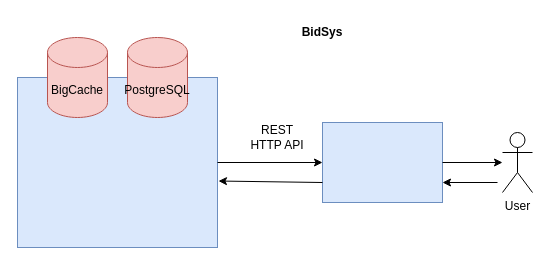
This 550x265 diagram has some shape labels left out. Here are the shapes that lost their labels. From the top down, the box of each, then its label:
(16, 76, 218, 248): Backend (Go)
(322, 122, 442, 202): Frontend (React)
